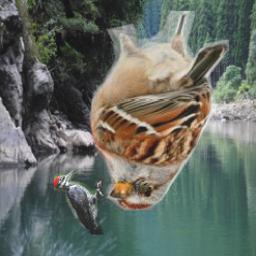Sparrow: (88, 11, 228, 211)
Woodpecker: (54, 168, 104, 234)
